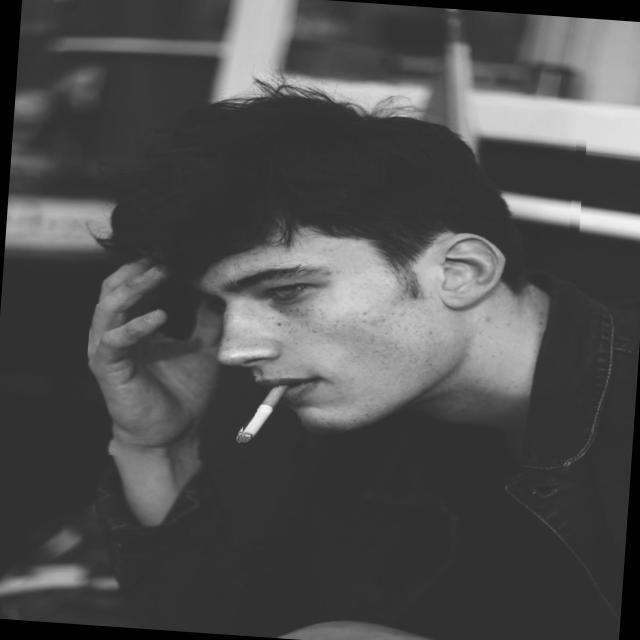cigarette: (240, 375, 304, 446)
